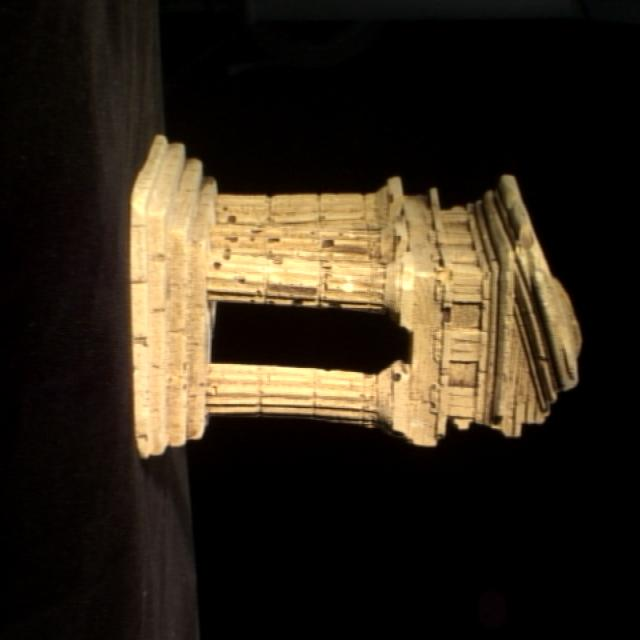Instance-Segmentation: (132, 135, 581, 456)
